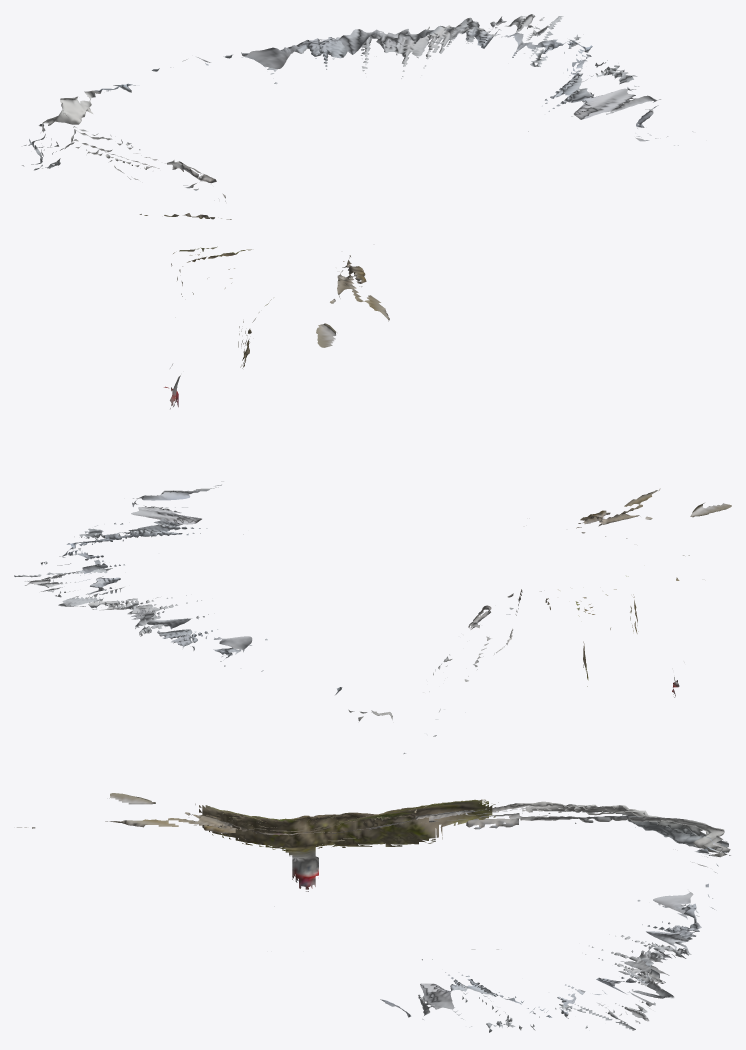
Rendered from world-1770273172576.glb.
3 renders of one model, top to bottom at view 1: azimuth 30°, elevation 25°; view 2: azimuth 150°, elevation 25°; view 3: azimuth 270°, elevation 25°, orthographic. The views are drawn at different scales.
Parts seen in each view (by area): view 1: world; view 2: world; view 3: world.
Part boxes in pixels (x1,y1,x2,y2): world: (22, 14, 692, 409); world: (14, 481, 731, 753); world: (17, 793, 730, 1032).
Size of the model in its own units: 74.37 by 17.94 by 85.86.
